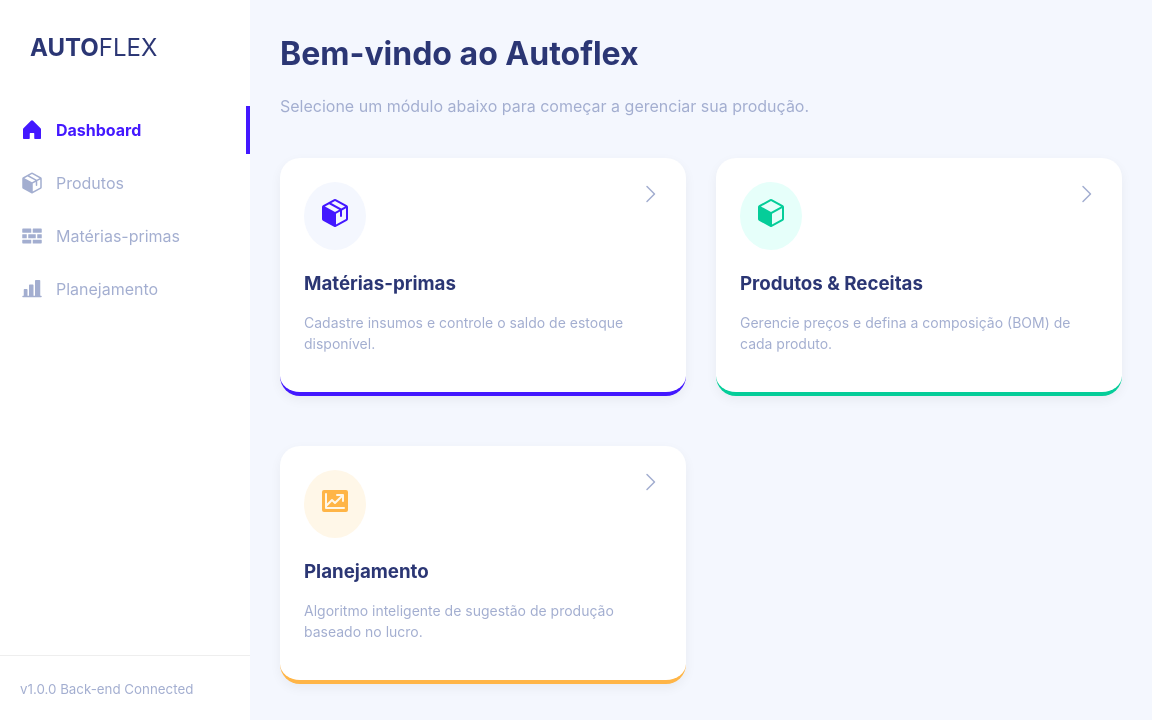
Test: AutoFlex - Teste de Navegação › Deve navegar para a tela de Produtos
The width and height of the screenshot is (1152, 720).
vai Clicar no menu
Click the link "Produtos".
click(72, 183)  # box [20,171,124,195]
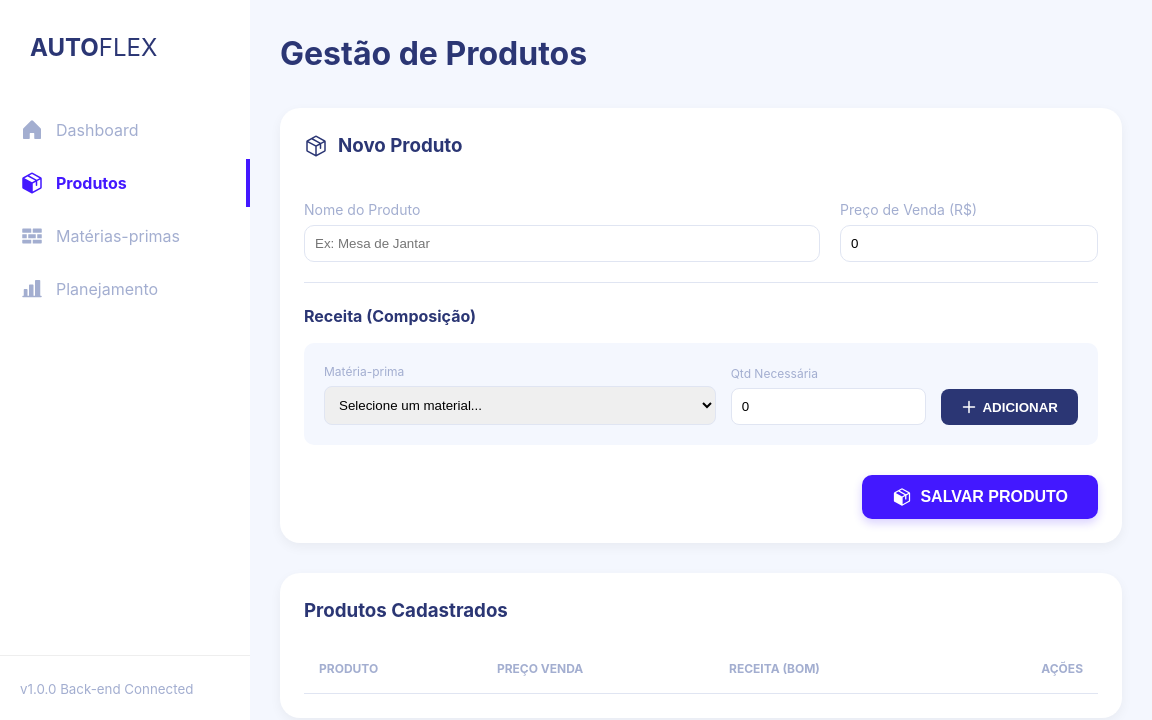
Expected: the text "Produtos" is shown, [0,159,250,207]
Expected: the button "ADICIONAR" is shown, [942,389,1078,425]
